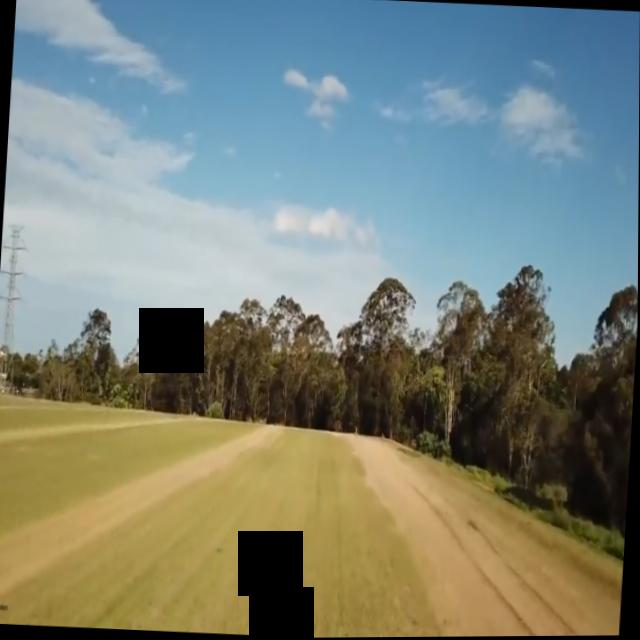Tree: (477, 254, 564, 488), (584, 278, 638, 539), (338, 272, 416, 444), (162, 294, 259, 426), (424, 276, 486, 458), (255, 290, 307, 434), (284, 314, 340, 446), (53, 307, 119, 414), (130, 311, 167, 411)
